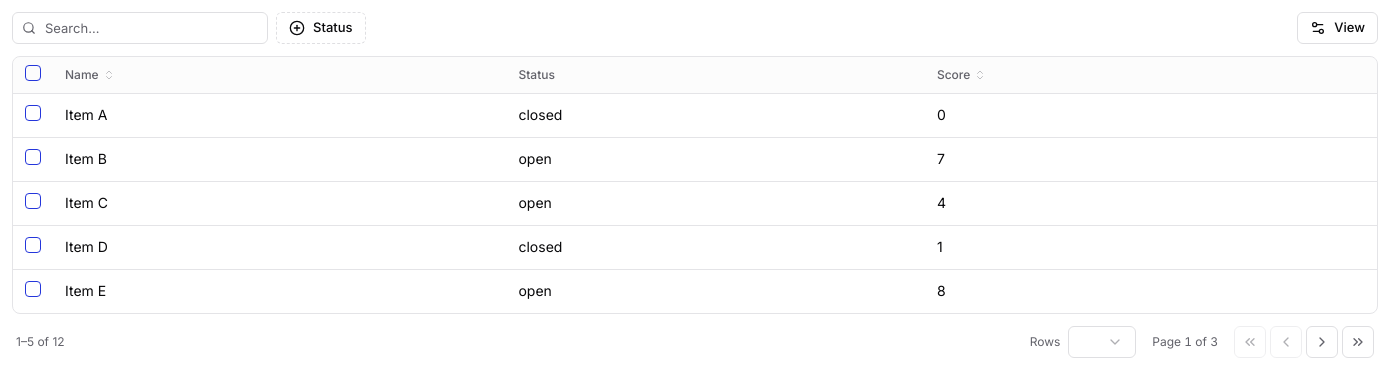
Test case: DataTable › toggles column visibility from the view menu
Expected: the column heading "Score" is shown, [925,57,1377,93]
Click the button "View": {"x": 1338, "y": 28} [1297,12,1378,44]
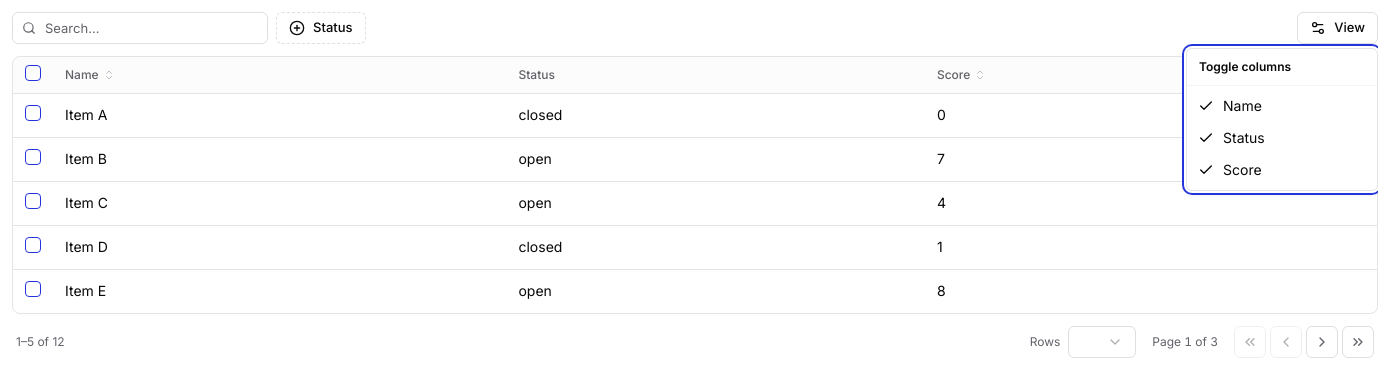
Click the menu item "Score": {"x": 1230, "y": 170} [1198,161,1262,178]
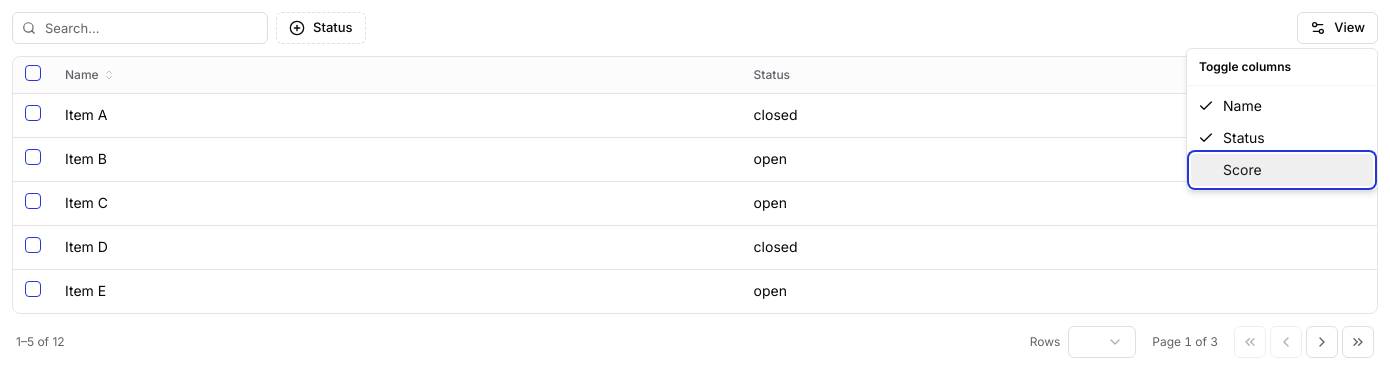
Press Escape
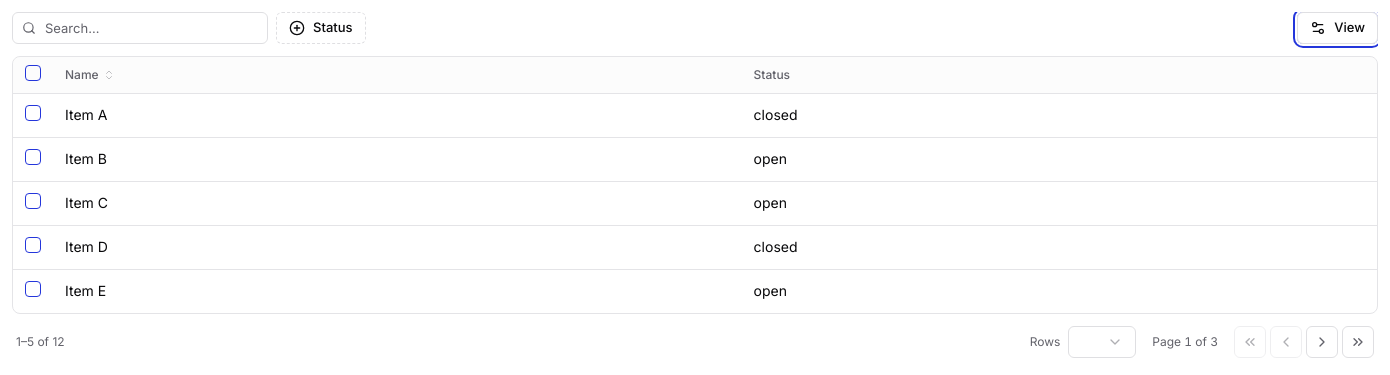
Expected: the menu item "Score" is gone
